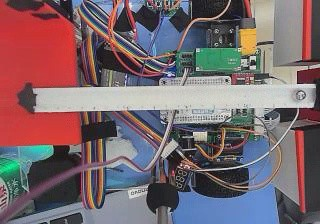ironball: (294, 89, 305, 100)
